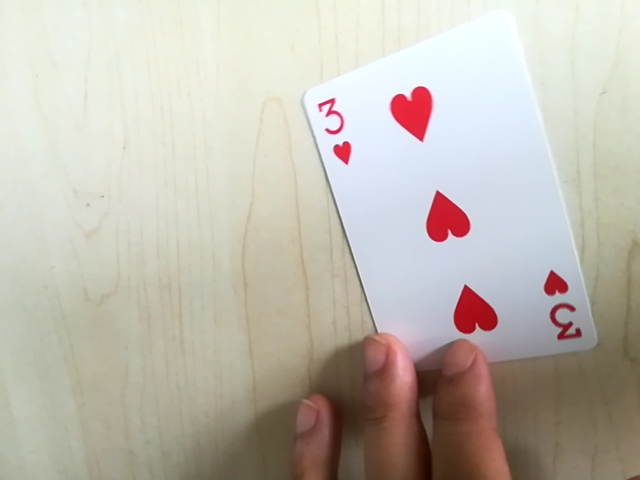hx 3: (310, 89, 349, 158), (544, 293, 590, 346)
